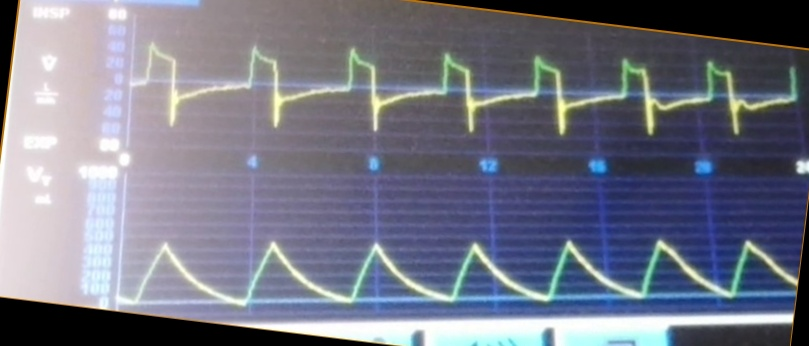Premature_cycling Flow: (136, 38, 797, 155)
Premature_cycling Volume: (124, 219, 793, 309)
